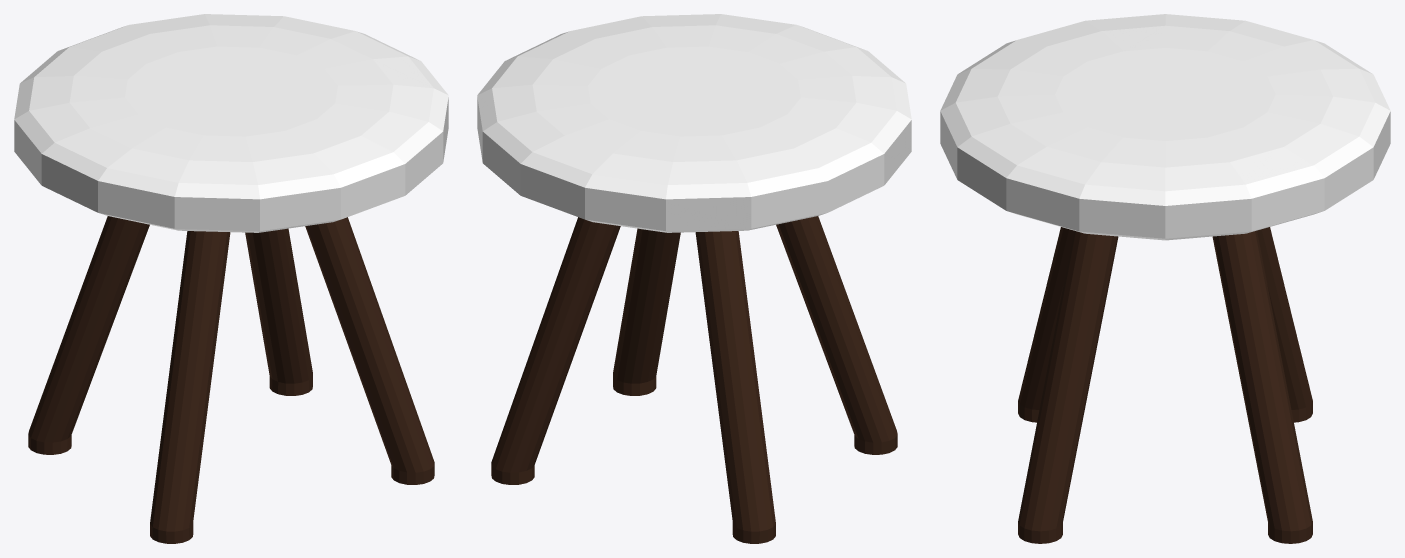
File: stool_fixed.fbx
The picture shows the model from 3 angles, left to right: view 1: azimuth 30°, elevation 25°; view 2: azimuth 150°, elevation 25°; view 3: azimuth 270°, elevation 25°; orthographic projection. The views are drawn at different scales.
Visible parts, largest first — view 1: stool, legs; view 2: stool, legs; view 3: stool, legs.
Part boxes in pixels (x1=…): stool: x1=14, y1=14, x2=448, y2=232; legs: x1=28, y1=216, x2=434, y2=543; stool: x1=477, y1=14, x2=911, y2=232; legs: x1=491, y1=216, x2=897, y2=543; stool: x1=940, y1=14, x2=1390, y2=240; legs: x1=1018, y1=227, x2=1312, y2=543.
Bounding box in the file's own units: 200 × 186 × 200.
